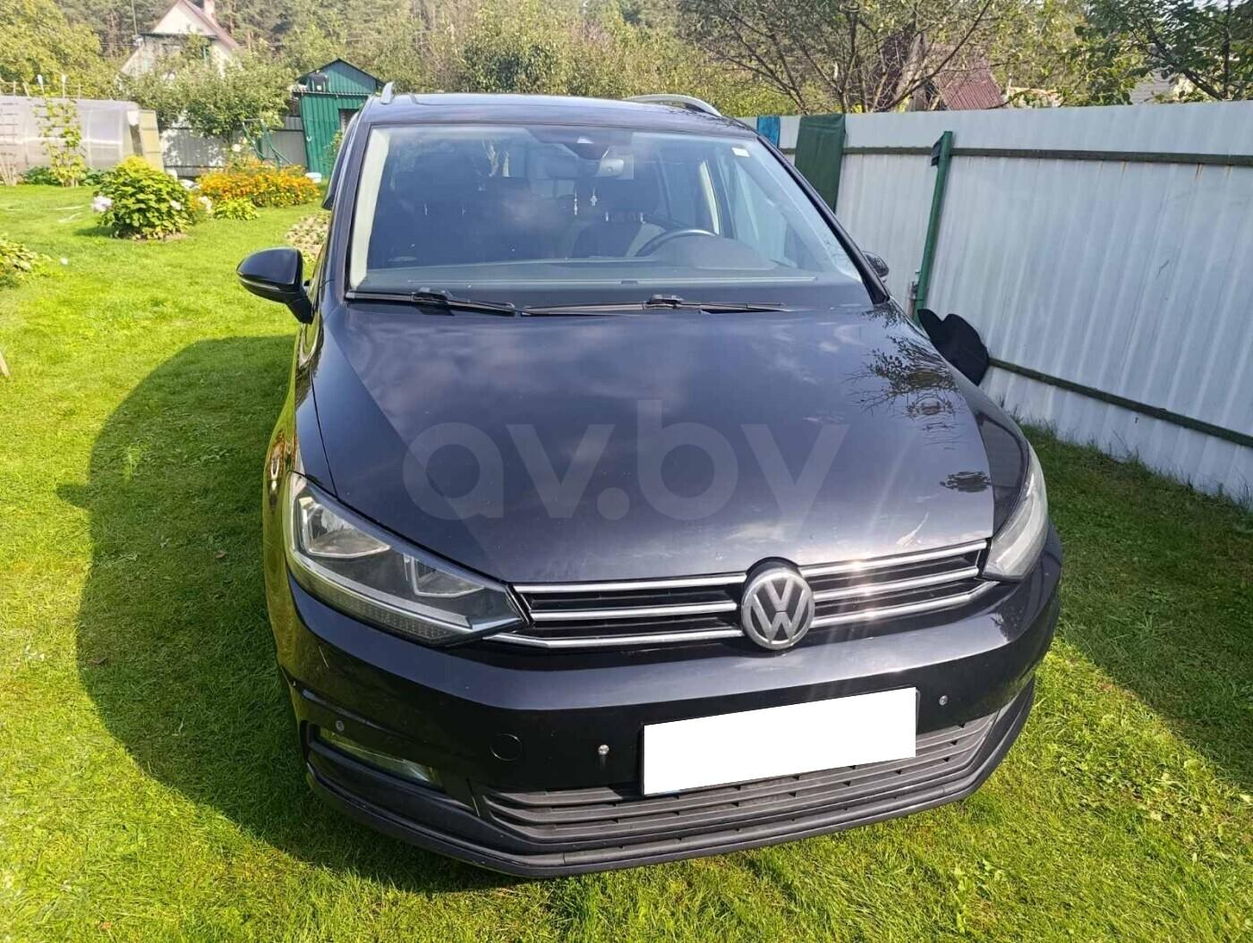Touran_2015: (238, 86, 1068, 877)
